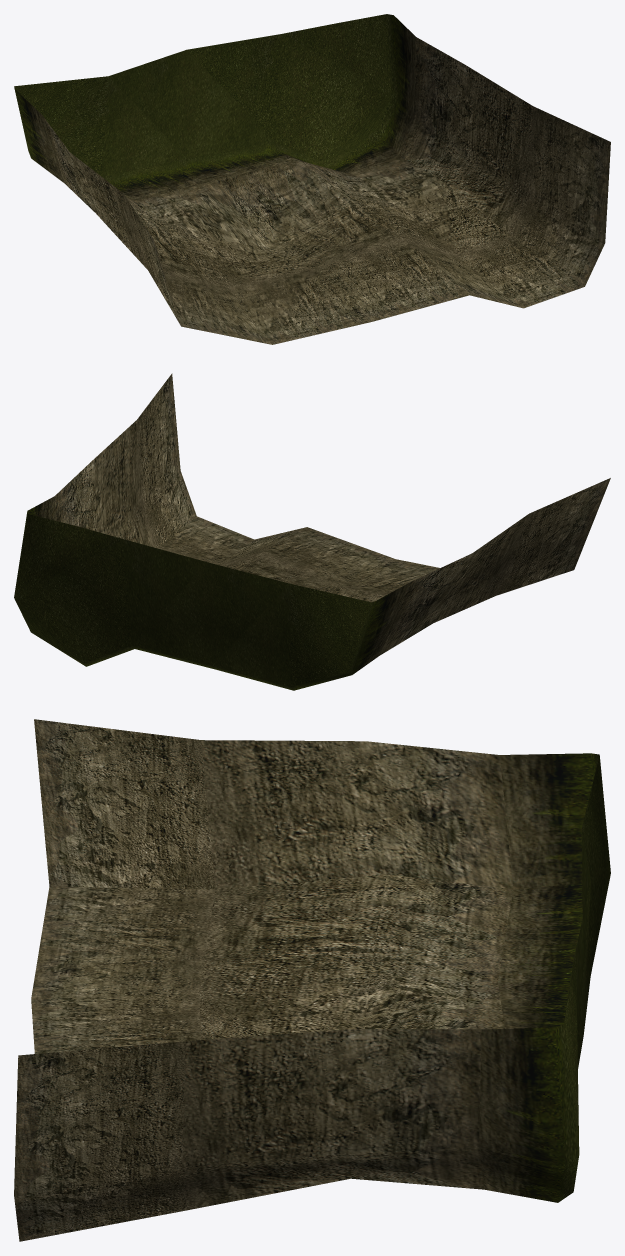
File: MEP_Edge_01_f.fbx
3 views of the same model, one above another, from view 1: azimuth 30°, elevation 25°; view 2: azimuth 150°, elevation 25°; view 3: azimuth 270°, elevation 25° (orthographic). The views are drawn at different scales.
Parts seen in each view (by area): view 1: MEP_Edge_01_f; view 2: MEP_Edge_01_f; view 3: MEP_Edge_01_f.
Boxes of the visible parts, x1,y1,x2,y2 form: MEP_Edge_01_f: (14, 14, 610, 344); MEP_Edge_01_f: (14, 373, 610, 690); MEP_Edge_01_f: (14, 719, 610, 1241).
Bounding box in the file's own units: 40.37 × 13.32 × 31.36.
1 material, 1 textured.
